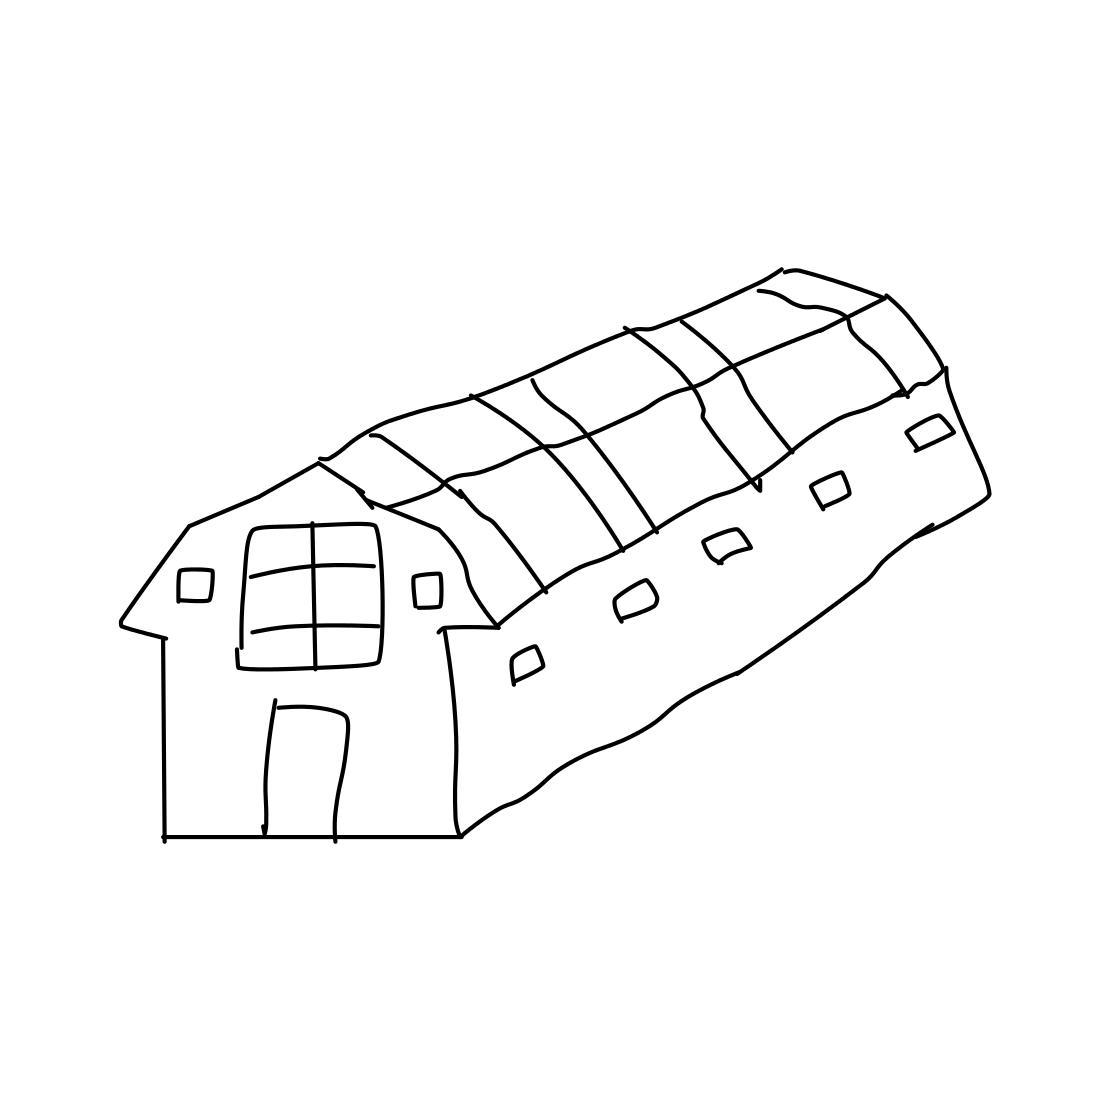House: (112, 245, 997, 859)
